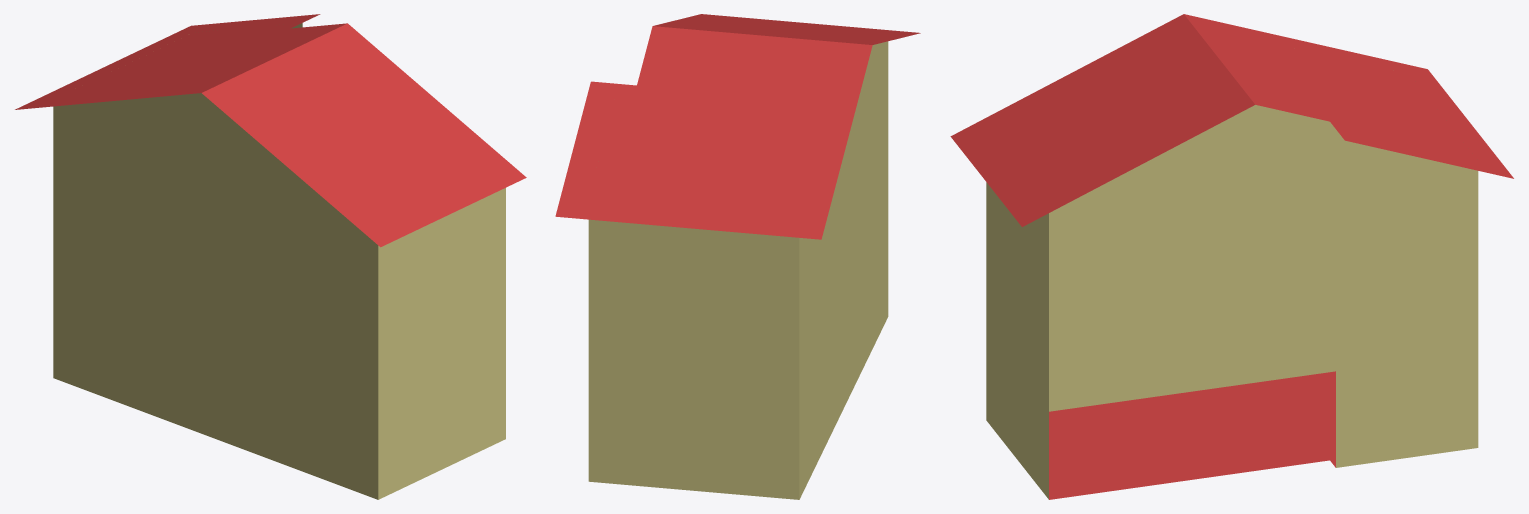
The picture shows the model from 3 angles, left to right: view 1: azimuth 30°, elevation 25°; view 2: azimuth 150°, elevation 25°; view 3: azimuth 270°, elevation 25°; orthographic projection. The views are drawn at different scales.
Bounding box in the file's own units: 6.57 × 9.91 × 7.1.
